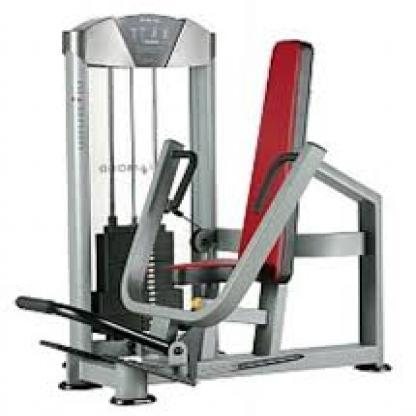Chest Press machine: (16, 12, 395, 406)
